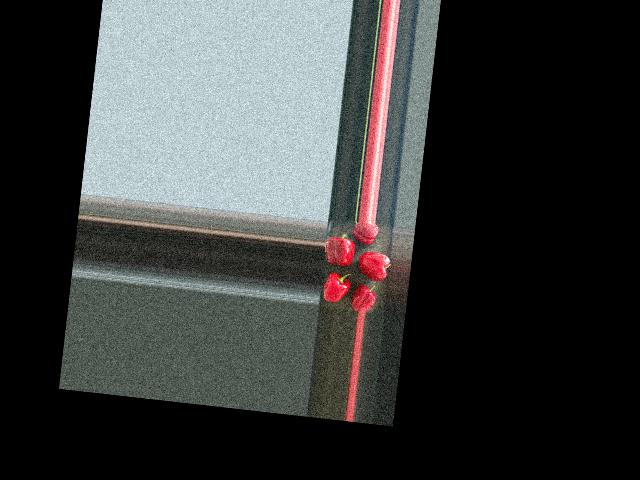bell_pepper: (350, 221, 383, 246)
